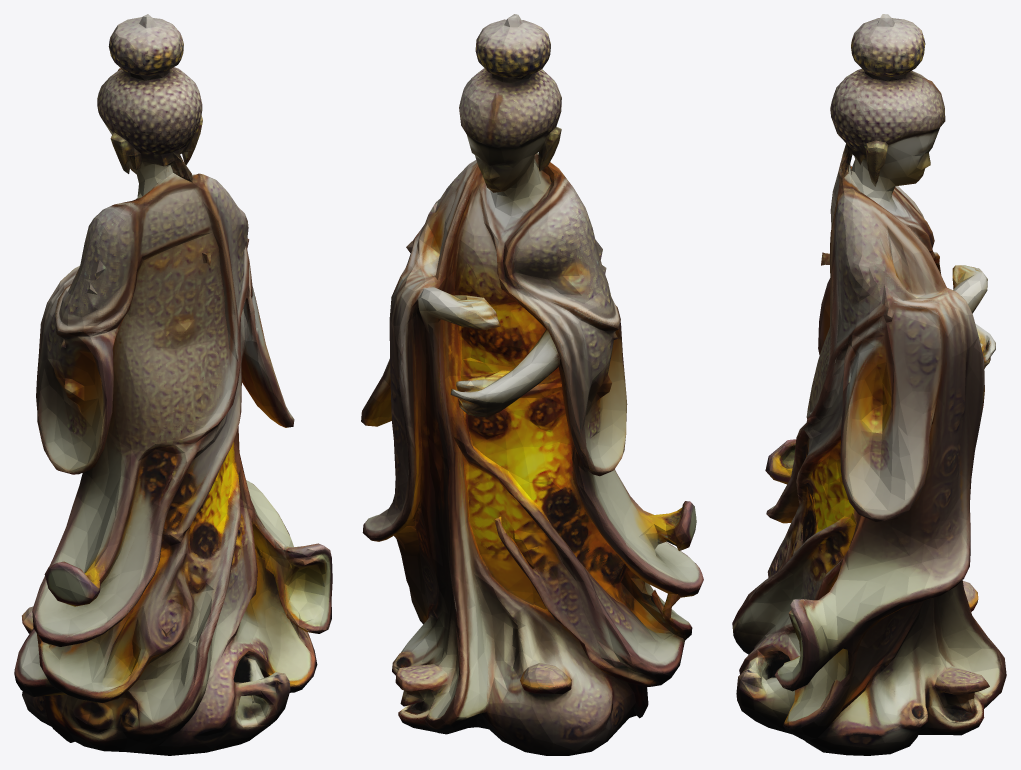
Rendered from ceramic-statue-3d.jpeg.glb.
3 renders of one model, left to right at view 1: azimuth 30°, elevation 25°; view 2: azimuth 150°, elevation 25°; view 3: azimuth 270°, elevation 25°, orthographic.
Visible parts, largest first — view 1: world; view 2: world; view 3: world.
Part boxes in pixels (x1,y1,x2,y2): world: (14, 14, 332, 755); world: (361, 14, 703, 755); world: (732, 14, 1006, 755).
Bounding box in the file's own units: 0.444 × 1 × 0.3618.
Materials: 1 (1 with a texture image).
